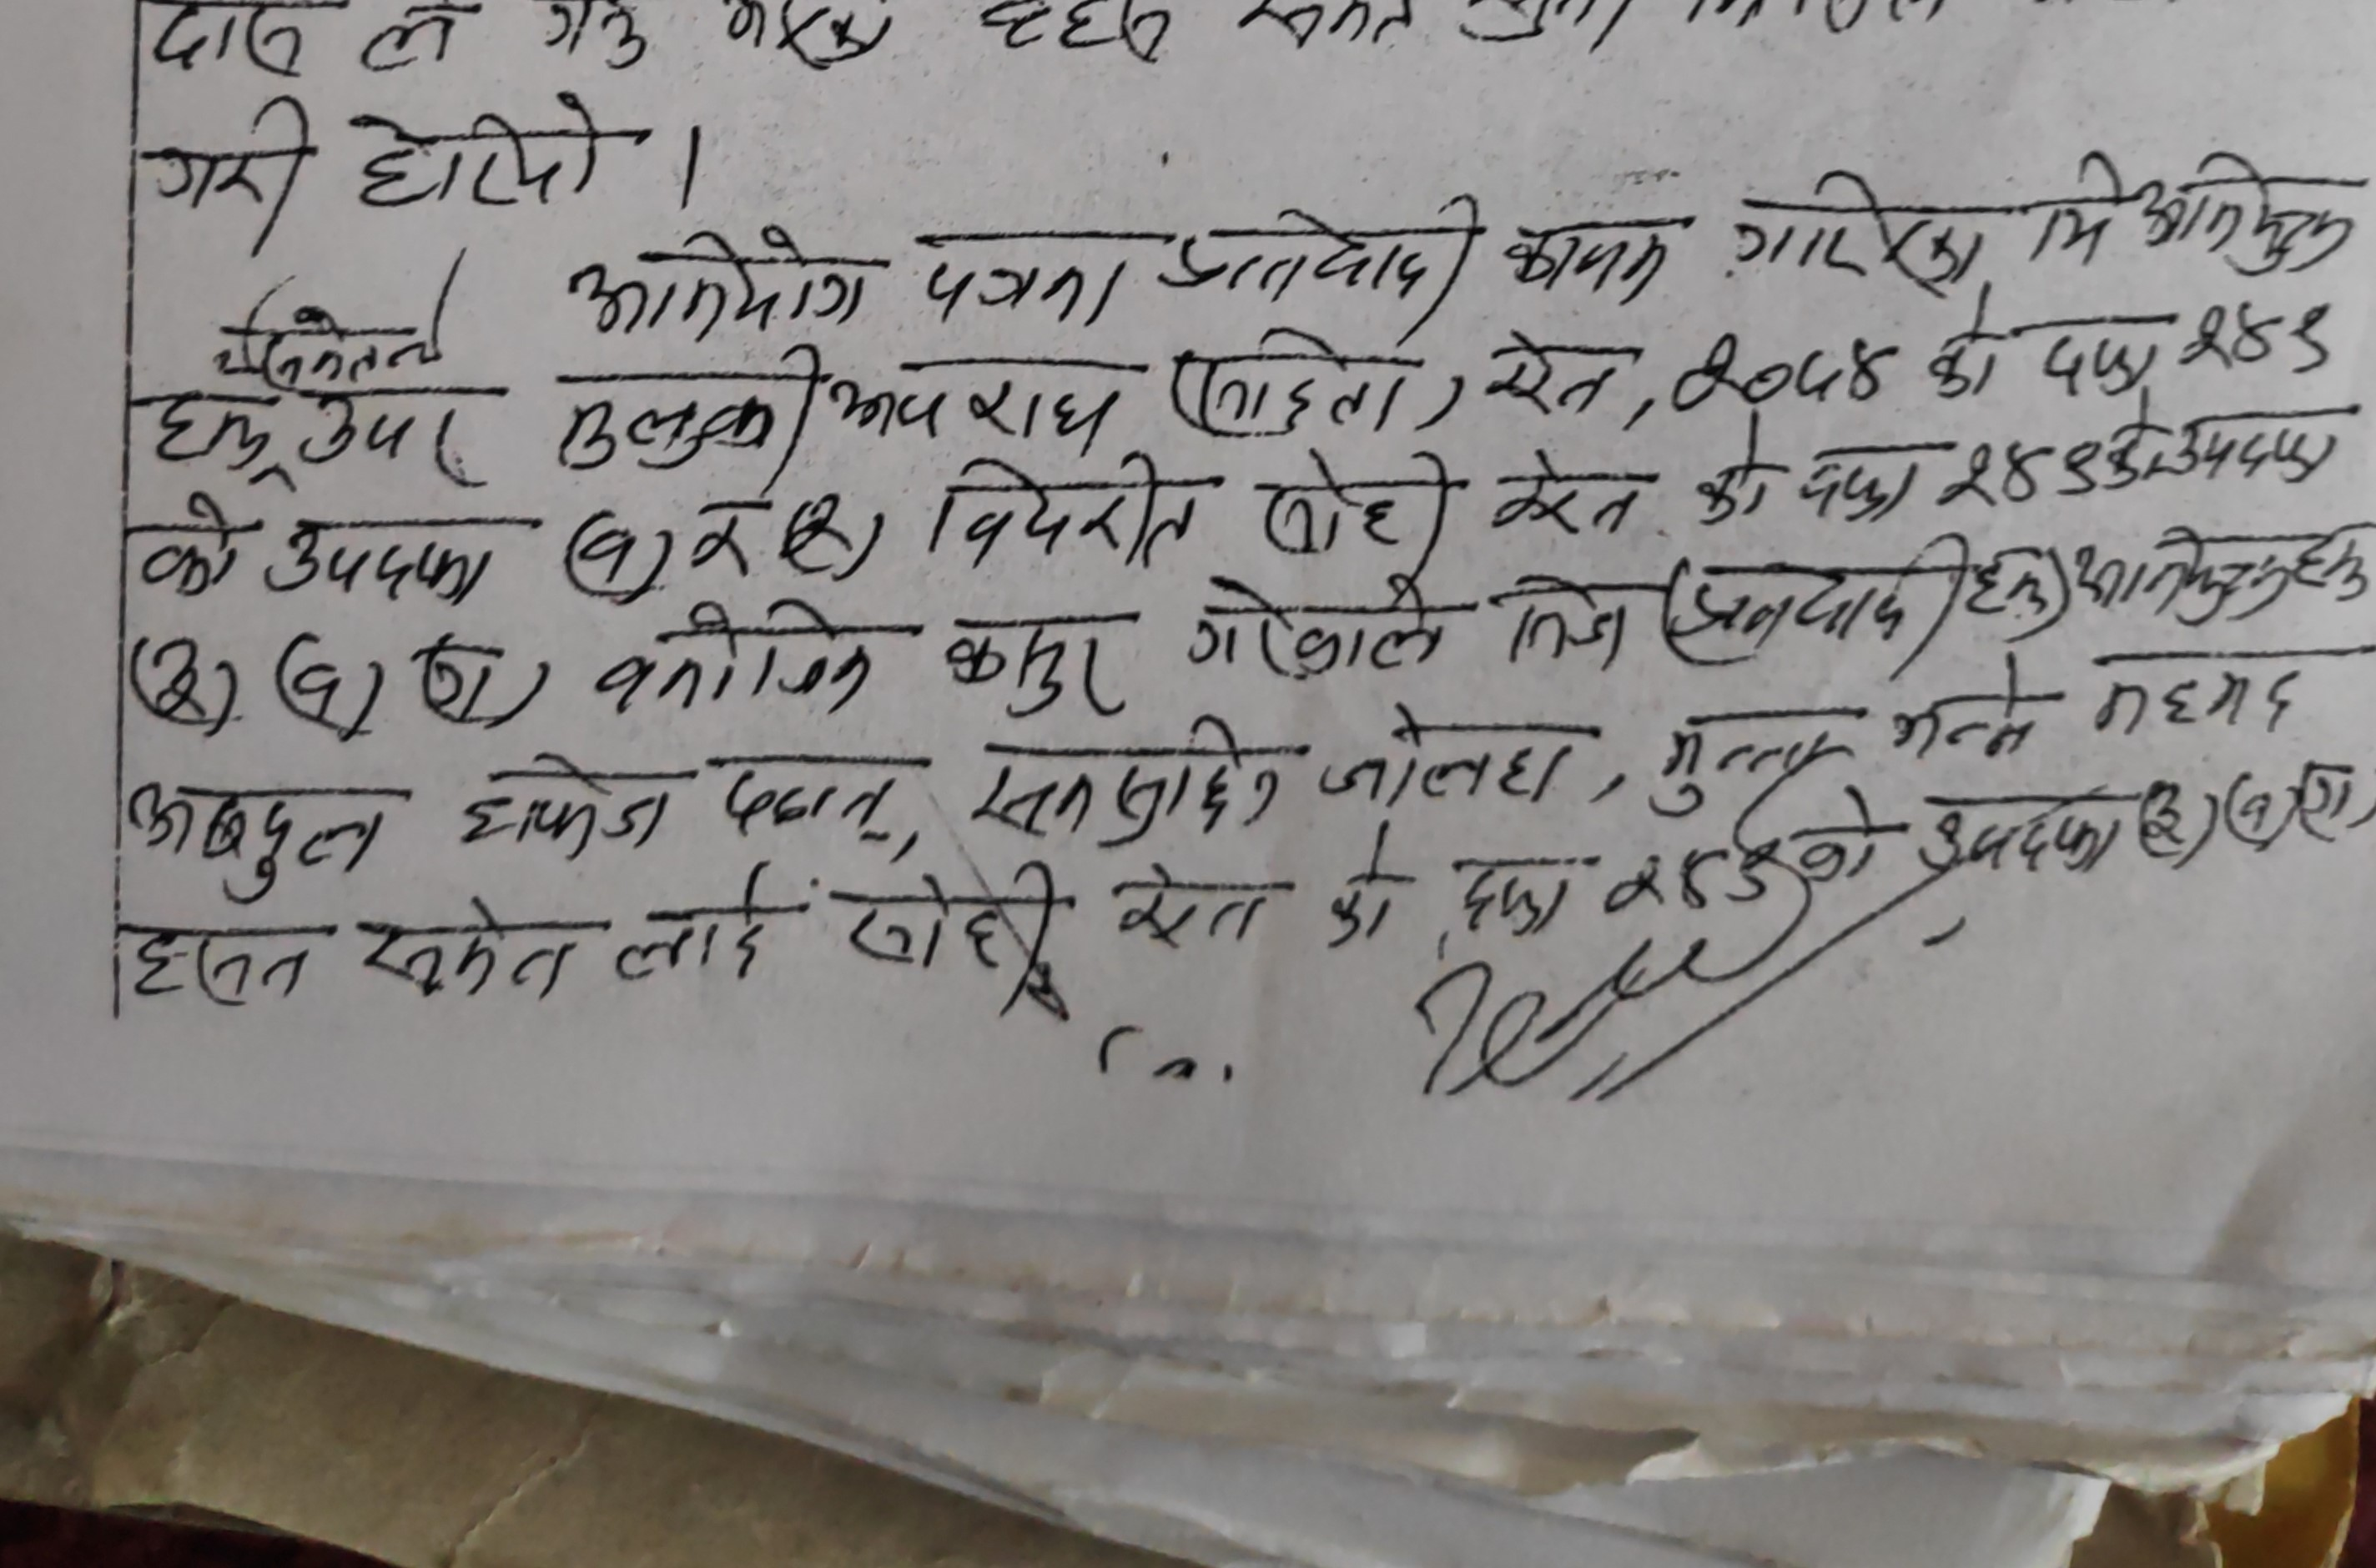text: (2026, 138, 2352, 280), (966, 712, 1296, 847), (1157, 185, 1487, 317), (588, 593, 894, 724), (122, 763, 402, 906), (563, 217, 873, 346), (549, 338, 826, 479), (2066, 509, 2376, 628), (338, 77, 602, 213), (931, 450, 1211, 576), (829, 348, 1143, 458), (1722, 168, 1993, 292), (1309, 695, 1592, 810), (835, 852, 1062, 996), (1174, 572, 1463, 679), (1165, 322, 1422, 441), (266, 504, 509, 618), (453, 745, 674, 868), (359, 891, 584, 1010), (2077, 640, 2331, 745), (919, 217, 1136, 338), (1249, 441, 1461, 560), (147, 89, 313, 234), (702, 745, 919, 856), (945, 602, 1136, 724), (1669, 322, 1895, 420), (1648, 707, 1844, 819), (614, 868, 784, 992), (296, 374, 474, 488), (1919, 789, 2122, 889), (122, 912, 317, 1015), (1884, 640, 2042, 763), (1113, 852, 1279, 964), (1503, 206, 1678, 310), (1482, 441, 1648, 548), (1601, 826, 1792, 917), (2166, 285, 2339, 385), (1494, 556, 1636, 677), (1482, 313, 1622, 429), (2033, 296, 2166, 406), (2157, 406, 2343, 485), (1932, 423, 2101, 509), (1442, 838, 1580, 941), (1797, 432, 1935, 534), (1314, 819, 1401, 964), (142, 385, 275, 479), (1681, 406, 1779, 534), (135, 495, 245, 602), (1916, 310, 2009, 409), (143, 625, 217, 728), (292, 656, 355, 735)
